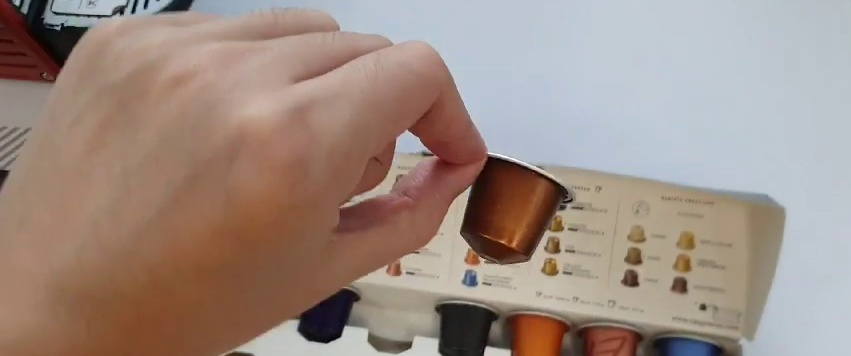capsule_3: (459, 149, 573, 265)
